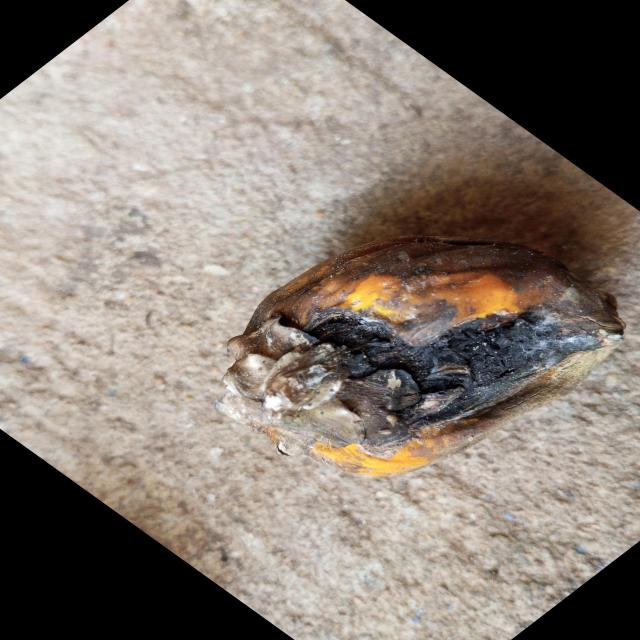damaged: (213, 235, 625, 479)
